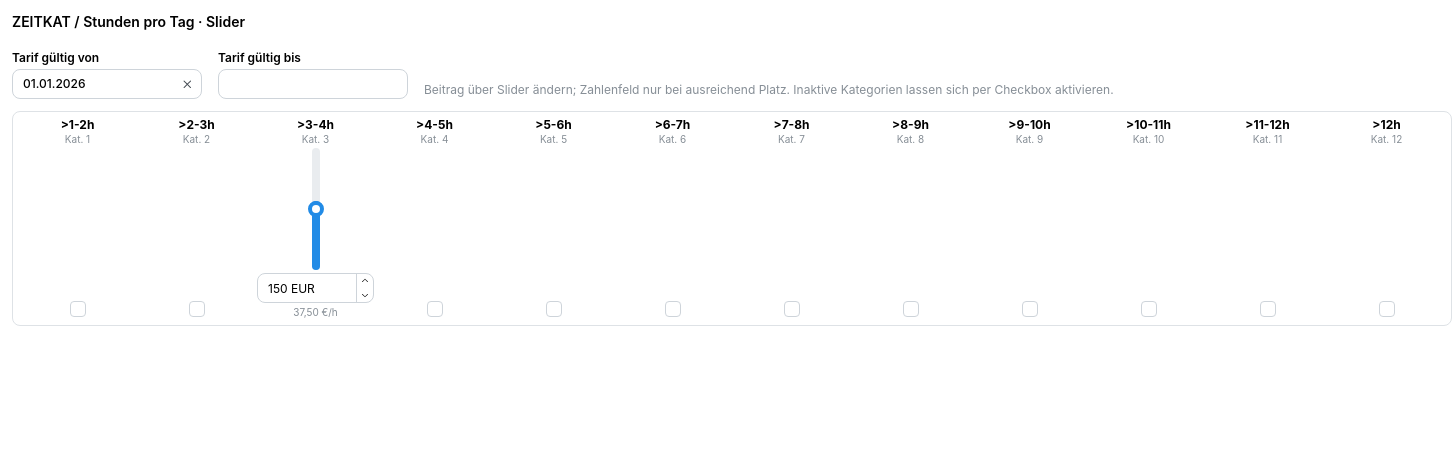
Test: FeeStaircaseEditor › deactivates a category at zero and restores its previous amount with the checkbox
The width and height of the screenshot is (1452, 467).
Step 1. Replace the text in the field named "Betrag ZEITKAT 04" with "0" → (316, 288), box [257,273,374,303]
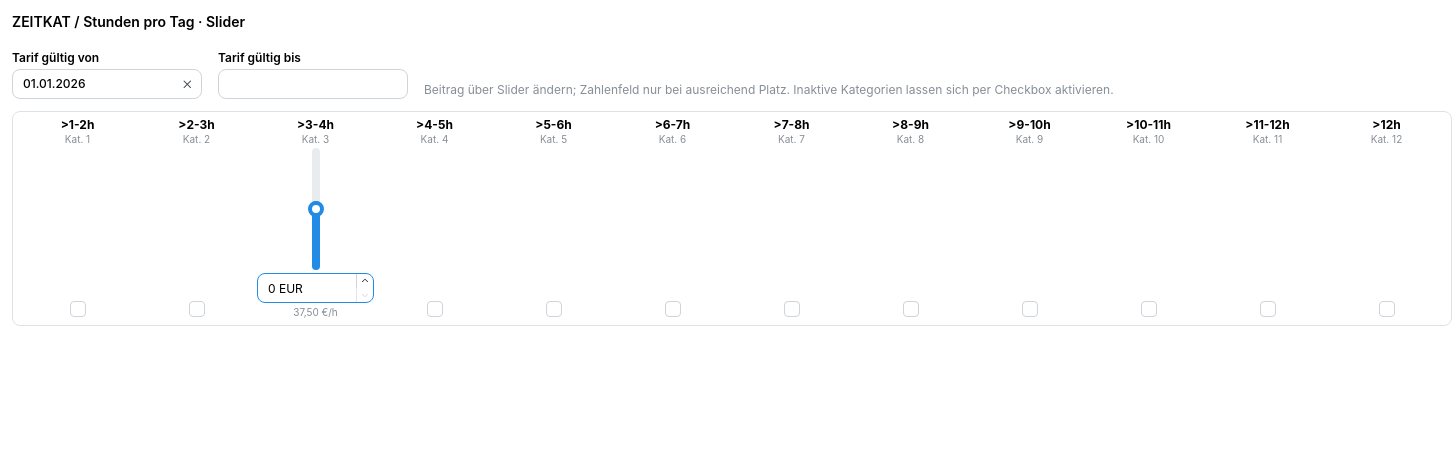
Step 2. Leave the field named "Betrag ZEITKAT 04", box [257,273,374,303]
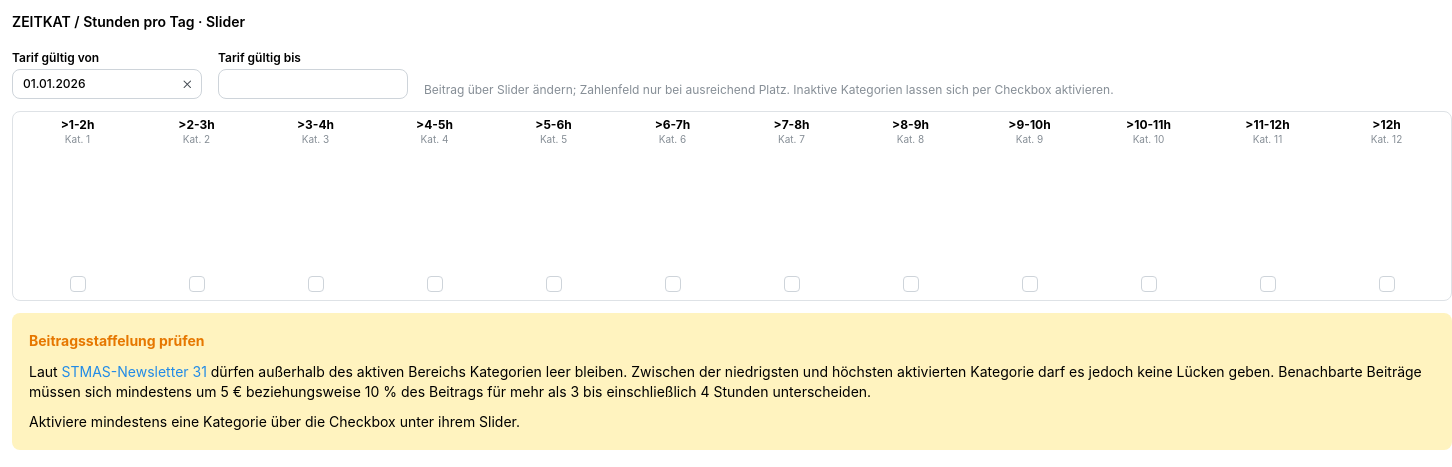
Check: the checkbox named "Aktiviere Beitrag ZEITKAT 04" is not checked
Step 3. Click the checkbox named "Aktiviere Beitrag ZEITKAT 04" → (316, 284), box [308,276,324,292]
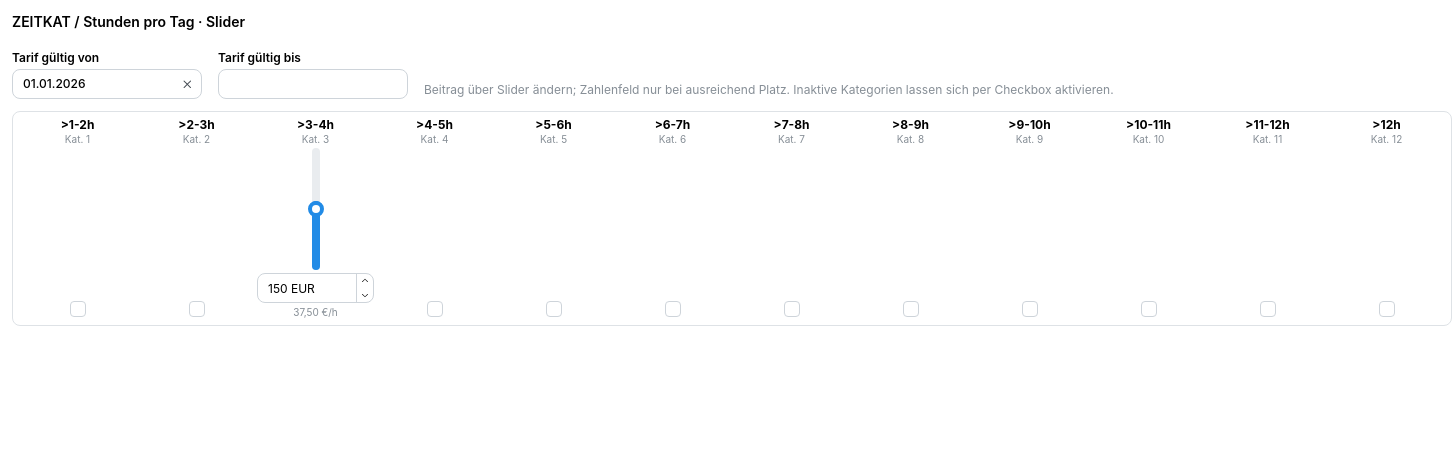
Check: the field named "Betrag ZEITKAT 04" holds "150 EUR"
Check: the text with test id "fee-staircase-hourly-04" reads "37,50 €/h", box [293,306,338,319]
Step 4. Replace the text in the field named "Betrag ZEITKAT 04" with "200" → (316, 288), box [257,273,374,303]
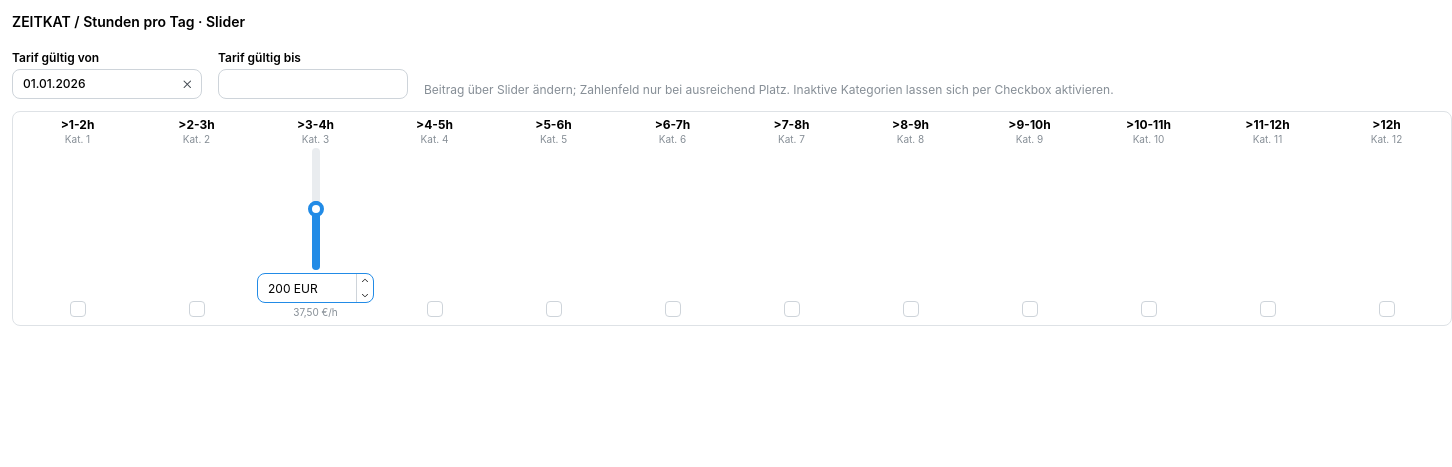
Step 5. Leave the field named "Betrag ZEITKAT 04", box [257,273,374,303]
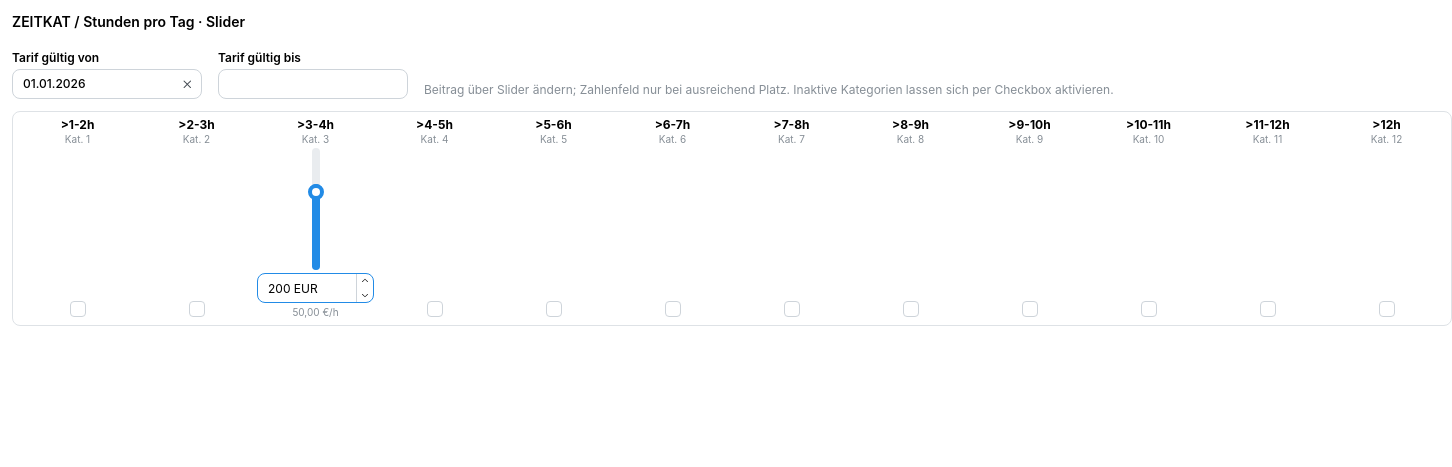
Check: the text with test id "fee-staircase-hourly-04" reads "50,00 €/h", box [292,306,339,319]
